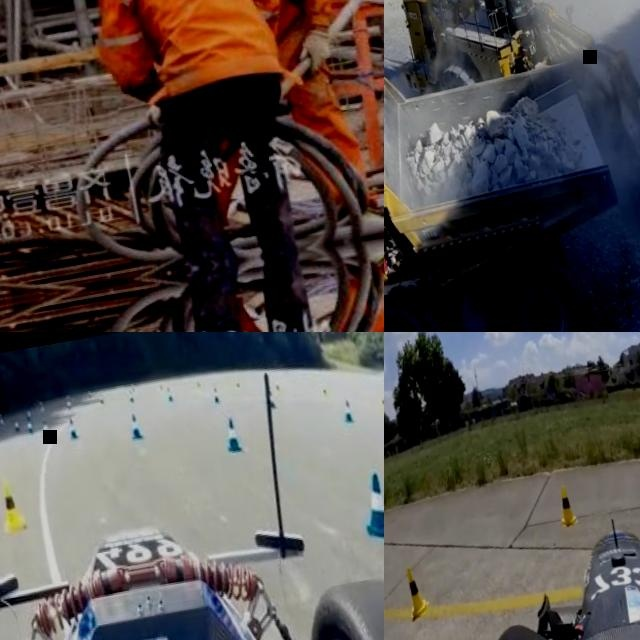Person: (66, 0, 339, 332), (157, 0, 369, 238)
Safety Cone: (359, 470, 384, 538), (400, 563, 432, 616), (0, 473, 28, 533), (553, 486, 579, 531), (222, 415, 242, 450), (128, 412, 145, 444), (340, 397, 355, 422), (65, 414, 77, 439), (264, 386, 276, 411), (319, 384, 330, 406), (126, 389, 137, 411), (209, 385, 219, 405), (274, 383, 283, 404), (42, 417, 50, 437), (26, 418, 34, 437), (377, 396, 384, 417), (165, 386, 173, 402), (14, 420, 21, 436)
Safety Vest: (95, 0, 279, 102), (228, 0, 326, 65)
machinery: (384, 31, 640, 332), (384, 0, 640, 275)
vehicle: (0, 334, 384, 640), (456, 485, 640, 640)
